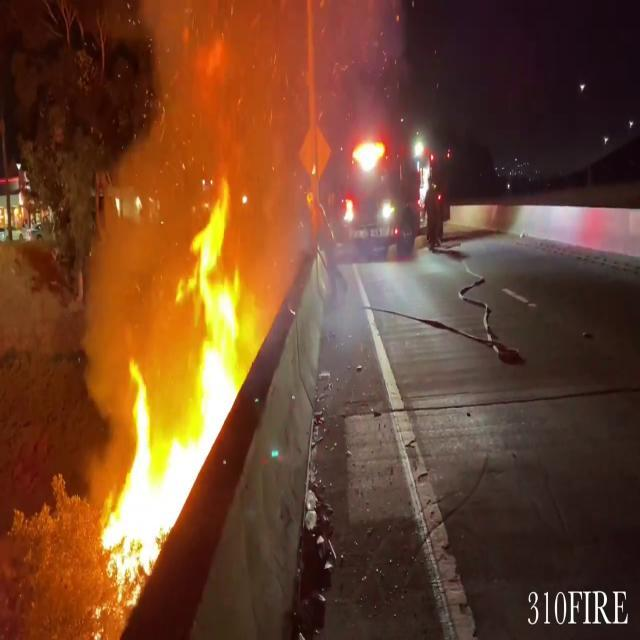Fire: (97, 185, 270, 614)
Smoke: (104, 0, 369, 209)
